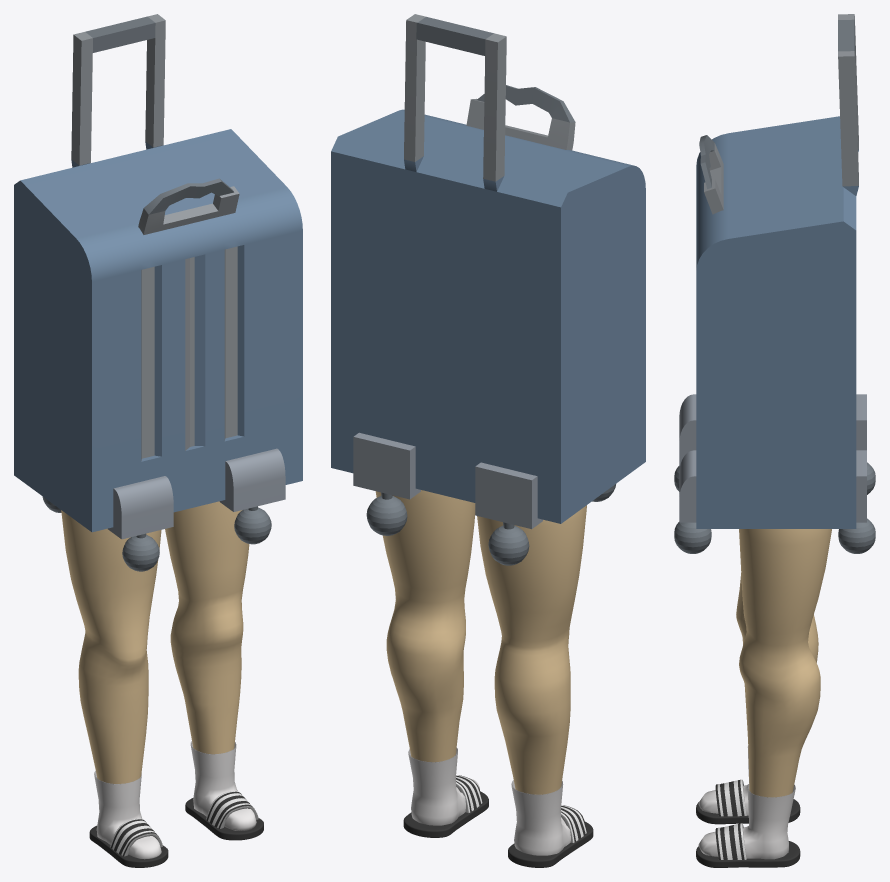
The model's file is suitcase with socks and sandals.fbx.
3 renders of one model, left to right at view 1: azimuth 30°, elevation 25°; view 2: azimuth 150°, elevation 25°; view 3: azimuth 270°, elevation 25°, orthographic. The views are drawn at different scales.
Visible parts, largest first — view 1: SUIT, pCylinder24, pCylinder25, pCylinder26, pCylinder27, polySurface60, polySurface62; view 2: SUIT, pCylinder24, pCylinder25, pCylinder26, pCylinder27, polySurface60, polySurface62; view 3: SUIT, pCylinder25, pCylinder26, polySurface60, polySurface62, pCylinder24, pCylinder27.
Part boxes in pixels (x1,y1,x2,y2): SUIT: (14, 14, 302, 571); pCylinder24: (61, 510, 161, 783); pCylinder25: (165, 501, 249, 754); pCylinder26: (190, 741, 256, 830); pCylinder27: (94, 771, 161, 859); polySurface60: (185, 791, 263, 840); polySurface62: (89, 818, 168, 867); SUIT: (331, 14, 645, 565); pCylinder24: (477, 505, 586, 794); pCylinder25: (375, 490, 475, 762); pCylinder26: (408, 748, 479, 825); pCylinder27: (511, 780, 584, 855); polySurface60: (403, 775, 488, 837); polySurface62: (508, 805, 593, 867); SUIT: (674, 14, 875, 553); pCylinder25: (739, 529, 831, 797); pCylinder26: (698, 785, 795, 859); polySurface60: (696, 823, 800, 867); polySurface62: (696, 779, 800, 824); pCylinder24: (736, 573, 818, 730); pCylinder27: (698, 745, 749, 815).
Bounding box in the file's own units: 8.01 × 28.2 × 6.45.
